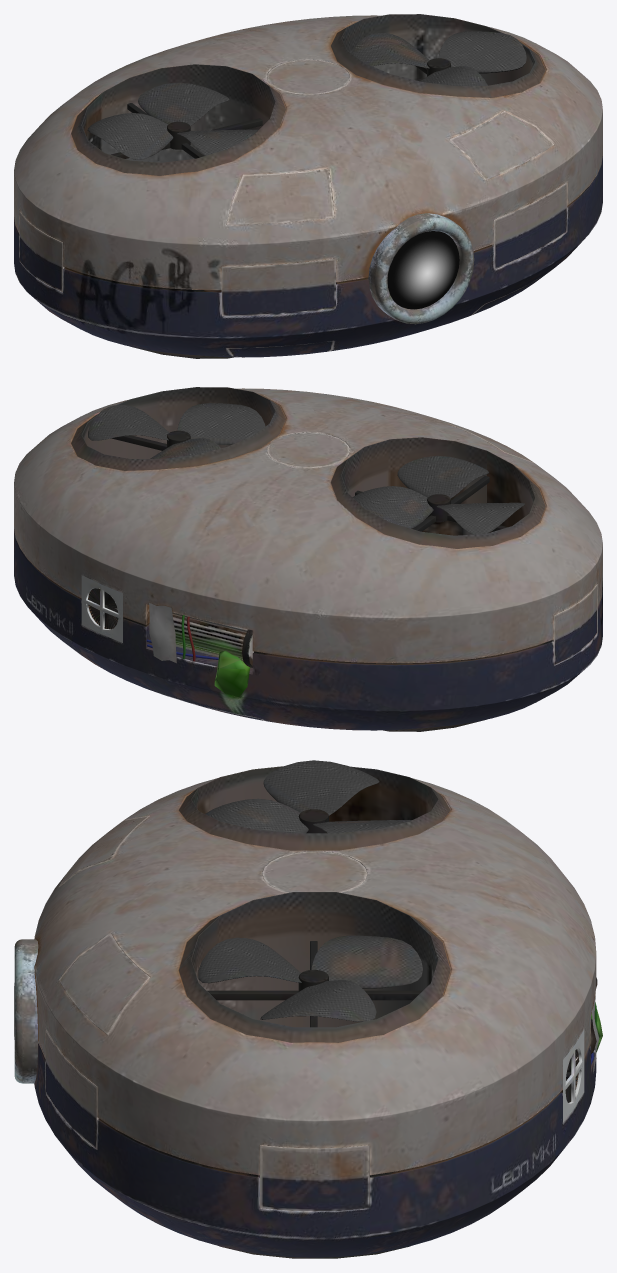
File: leon.glb
The picture shows the model from 3 angles, top to bottom: view 1: azimuth 30°, elevation 25°; view 2: azimuth 150°, elevation 25°; view 3: azimuth 270°, elevation 25°; orthographic projection. The views are drawn at different scales.
Visible parts, largest first — view 1: Leon, Trappes, Trappe Top, FansRight, FansLeft, EyeBorder, Eye, Trappe Bottom; view 2: Leon, FansRight, FansLeft, Trappe Top, Trappes; view 3: Leon, FansLeft, Trappes, Trappe Top, FansRight, EyeBorder.
Part boxes in pixels (x1,y1,x2,y2): Leon: (14, 14, 602, 358); Trappes: (19, 182, 567, 316); Trappe Top: (226, 59, 554, 224); FansRight: (87, 82, 258, 159); FansLeft: (351, 31, 526, 85); EyeBorder: (368, 213, 474, 324); Eye: (387, 231, 459, 309); Trappe Bottom: (226, 269, 552, 357); Leon: (14, 387, 602, 731); FansRight: (352, 455, 524, 534); FansLeft: (88, 403, 265, 458); Trappe Top: (243, 388, 534, 467); Trappes: (552, 584, 597, 665); Leon: (34, 766, 602, 1258); FansLeft: (198, 935, 422, 1021); Trappes: (45, 1030, 369, 1211); Trappe Top: (59, 815, 367, 1034); FansRight: (205, 760, 411, 833); EyeBorder: (14, 939, 38, 1083).
Bounding box in the file's own units: 2 × 0.827 × 1.48.
Materials: 2 (2 with a texture image).
